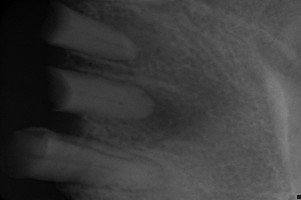Furcation Involvement: (138, 85, 190, 137)
